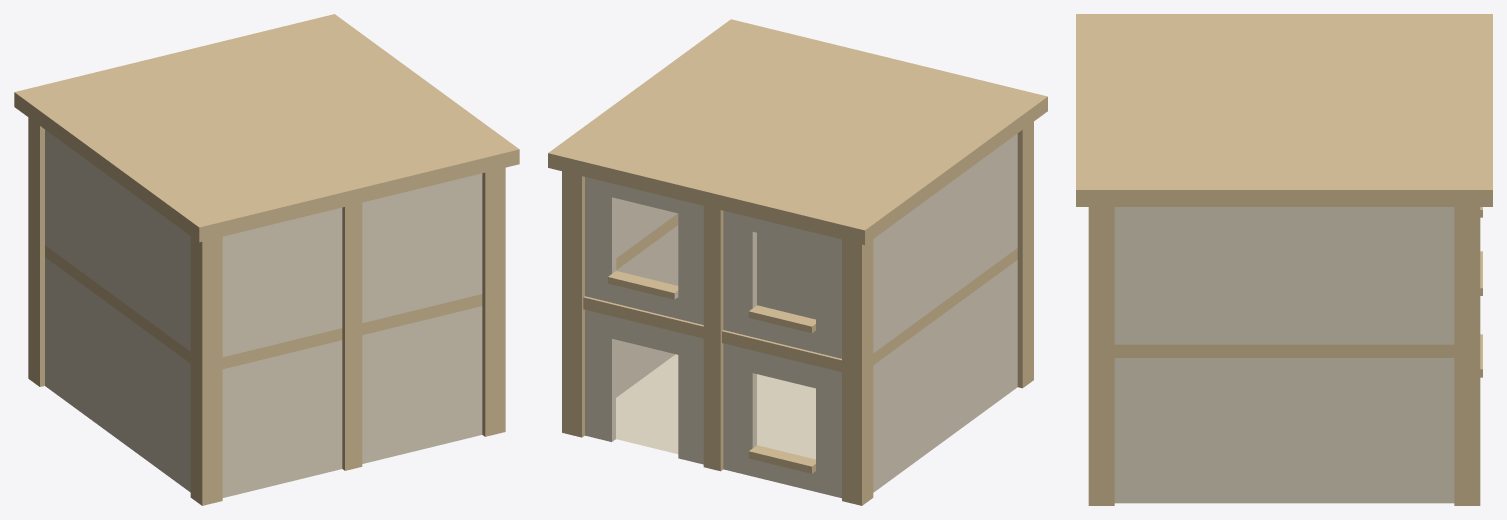
File: Bld_R_med_L2_A.fbx
The picture shows the model from 3 angles, left to right: view 1: azimuth 30°, elevation 25°; view 2: azimuth 150°, elevation 25°; view 3: azimuth 270°, elevation 25°; orthographic projection. The views are drawn at different scales.
Visible parts, largest first — view 1: Bld_R_med_L2_A_LOD0; view 2: Bld_R_med_L2_A_LOD0; view 3: Bld_R_med_L2_A_LOD0.
Boxes of the visible parts, x1,y1,x2,y2 form: Bld_R_med_L2_A_LOD0: (14, 14, 519, 505); Bld_R_med_L2_A_LOD0: (548, 19, 1047, 505); Bld_R_med_L2_A_LOD0: (1076, 14, 1492, 505).
Size of what is drawn, in the model's own units: 1400 by 1498 by 1400.
1 material, 1 textured.
